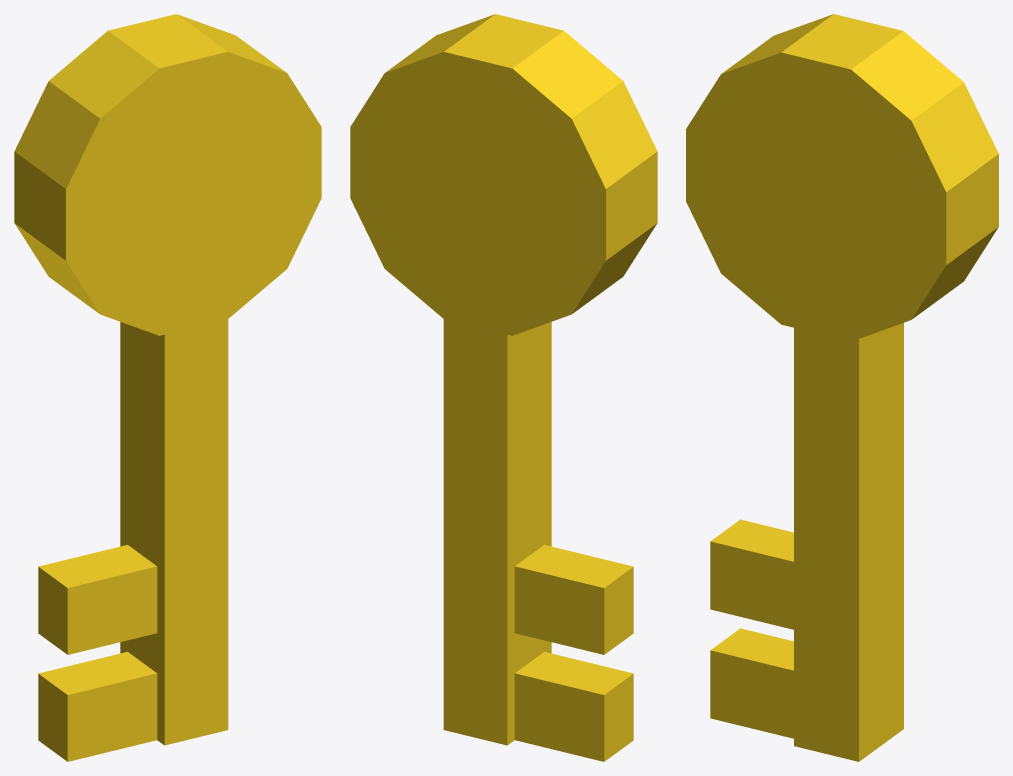
The model's file is clef.gltf.
The picture shows the model from 3 angles, left to right: view 1: azimuth 30°, elevation 25°; view 2: azimuth 150°, elevation 25°; view 3: azimuth 330°, elevation 25°; orthographic projection.
Visible parts, largest first — view 1: cylinder, cube (×3); view 2: cylinder, cube (×3); view 3: cylinder, cube (×3).
Part boxes in pixels (box(x1,y1,x2,y2)): cylinder: box(14, 14, 321, 335); cube (×3): box(38, 319, 228, 761); cylinder: box(350, 14, 657, 335); cube (×3): box(443, 319, 633, 761); cylinder: box(686, 14, 998, 341); cube (×3): box(710, 323, 903, 761).
Size of the model in its own units: 0.125 by 0.3188 by 0.0437.
Materials: 4 (4 with a texture image).
